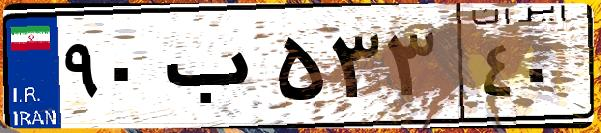0: (525, 38, 570, 115), (110, 28, 158, 98)
3: (385, 28, 445, 110), (330, 28, 385, 110)
4: (475, 38, 525, 113)
5: (270, 28, 330, 110)
9: (57, 26, 110, 100)
ب: (158, 20, 270, 120)
